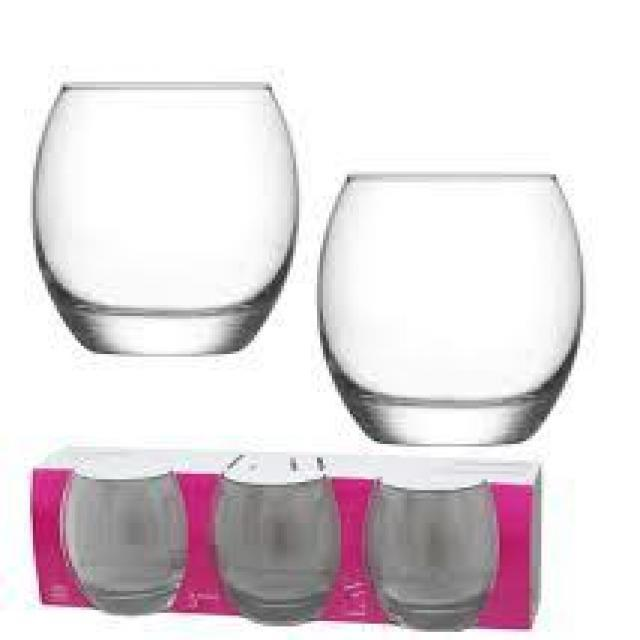glass: (24, 83, 299, 358), (212, 452, 338, 621)
